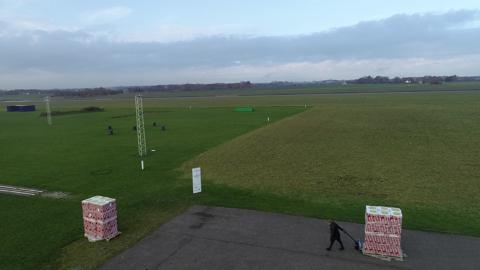RockwoolPallet: (83, 193, 120, 242)
